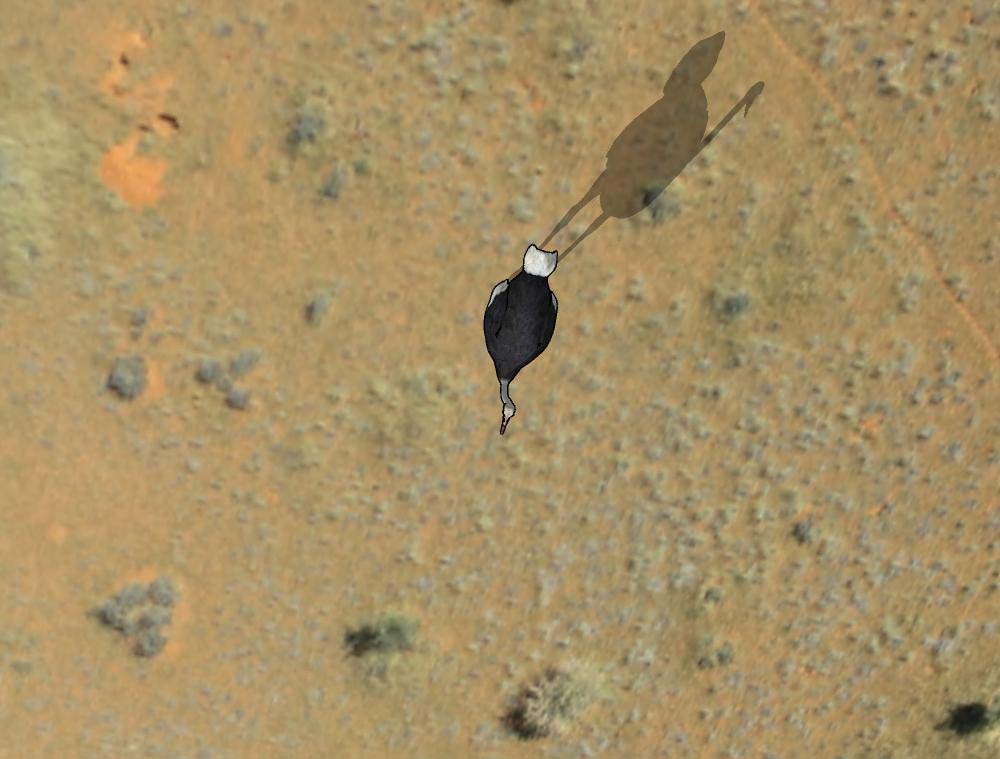ostrich: (466, 238, 568, 450)
